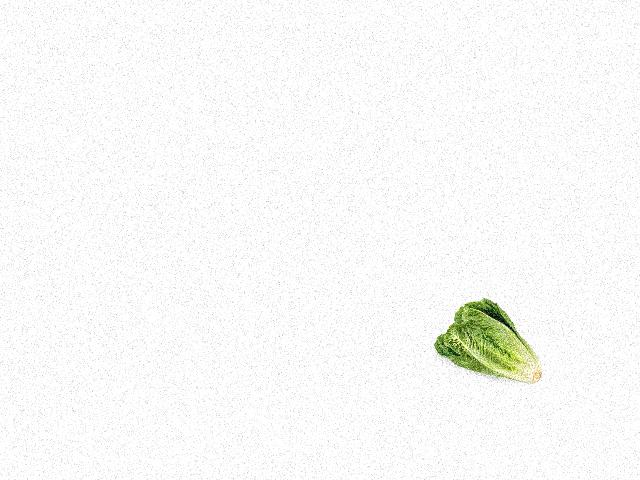lettuce: (434, 299, 549, 385)
